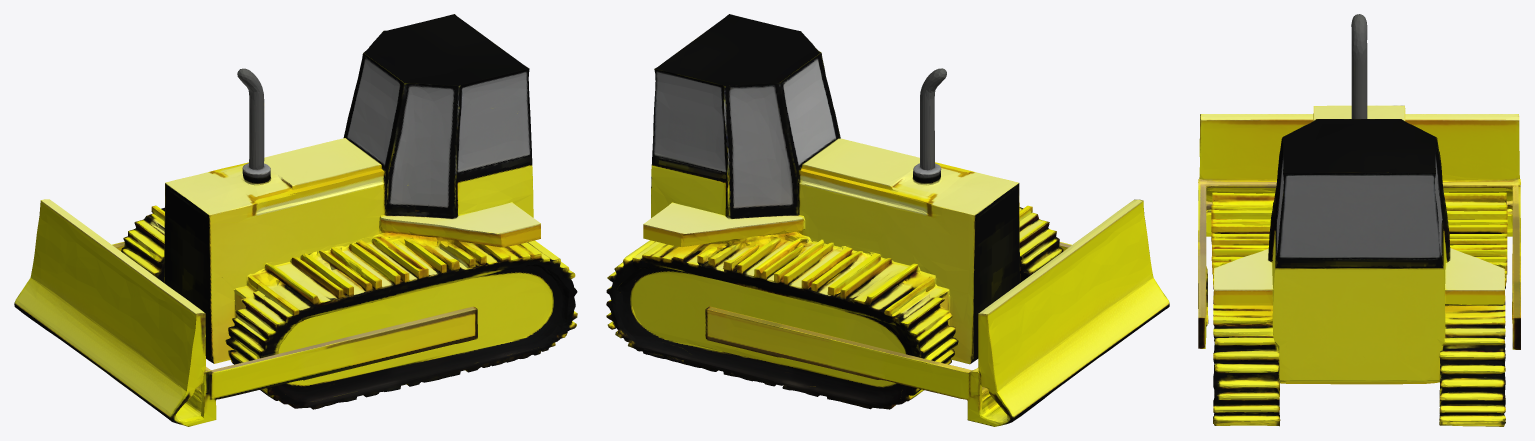
Rendered from bulldozer.glb.
The picture shows the model from 3 angles, left to right: view 1: azimuth 30°, elevation 25°; view 2: azimuth 150°, elevation 25°; view 3: azimuth 270°, elevation 25°; orthographic projection. The views are drawn at different scales.
Parts seen in each view (by area): view 1: world; view 2: world; view 3: world.
Part boxes in pixels (x1,y1,x2,y2): world: (14,14,577,426); world: (606,14,1169,426); world: (1198,14,1520,426).
Size of the model in its own units: 1 by 0.6687 by 0.6601.
1 material, 1 textured.
